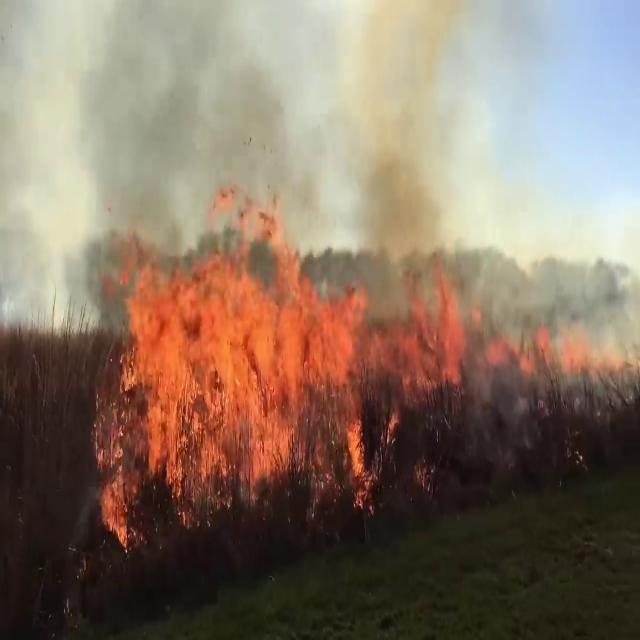Fire: (94, 218, 468, 538), (491, 303, 635, 393)
Smoke: (62, 0, 324, 279), (338, 2, 488, 316)
